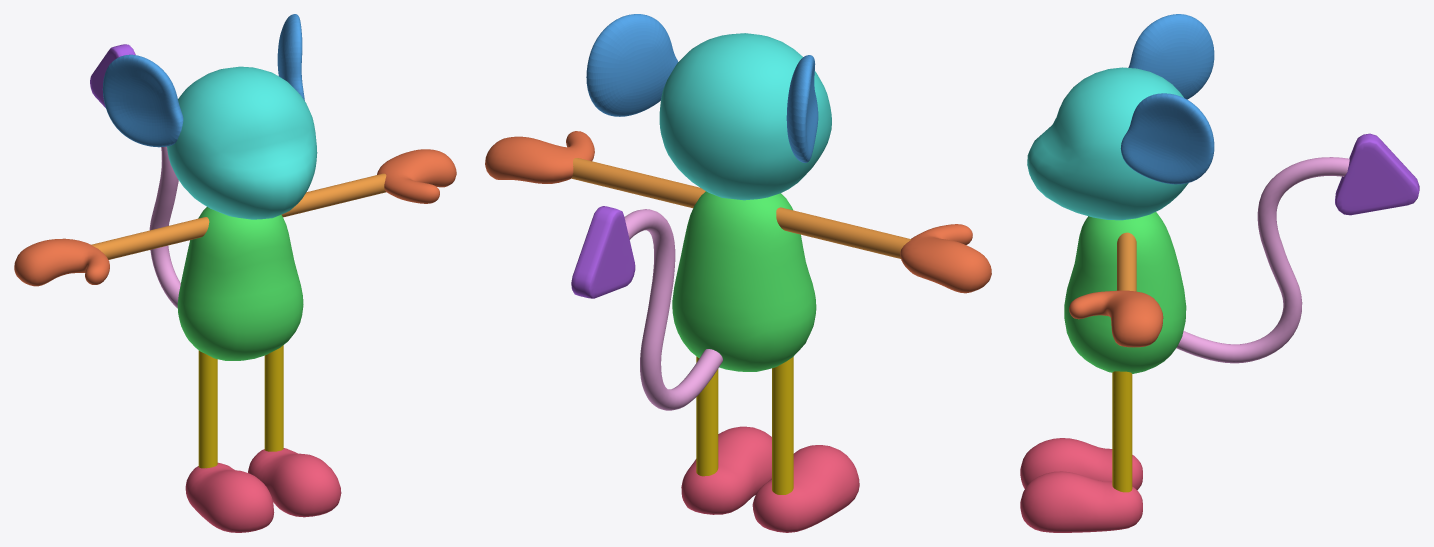
Rendered from mouse_original.fbx.
3 renders of one model, left to right at view 1: azimuth 30°, elevation 25°; view 2: azimuth 150°, elevation 25°; view 3: azimuth 270°, elevation 25°, orthographic. The views are drawn at different scales.
Visible parts, largest first — view 1: head.001, body, ear_R, foot_R, foot_L, hand_R, tail, hand_L, leg_R, arm_R, leg_L, arm_L (+1 smaller); view 2: body, head.001, tail, ear_L, foot_R, foot_L, hand_R, hand_L, arm_L, arm_R, leg_R, ear_R (+1 smaller); view 3: head.001, body, tail, ear_L, foot_L, ear_R, hand_L, foot_R, leg_L, arm_L.
Boxes of the visible parts, bbox=[...] form: head.001: bbox=[167, 66, 317, 219]; body: bbox=[177, 207, 303, 360]; ear_R: bbox=[102, 54, 183, 147]; foot_R: bbox=[185, 462, 274, 532]; foot_L: bbox=[248, 448, 341, 517]; hand_R: bbox=[14, 238, 109, 286]; tail: bbox=[90, 44, 180, 308]; hand_L: bbox=[377, 149, 456, 203]; leg_R: bbox=[198, 350, 217, 468]; arm_R: bbox=[91, 217, 209, 259]; leg_L: bbox=[264, 345, 283, 451]; arm_L: bbox=[281, 173, 386, 217]; body: bbox=[672, 191, 816, 371]; head.001: bbox=[659, 33, 831, 200]; tail: bbox=[571, 206, 722, 410]; ear_L: bbox=[586, 14, 677, 116]; foot_R: bbox=[752, 445, 859, 532]; foot_L: bbox=[681, 426, 771, 514]; hand_R: bbox=[900, 224, 991, 293]; hand_L: bbox=[485, 131, 594, 183]; arm_L: bbox=[571, 158, 705, 208]; arm_R: bbox=[776, 207, 910, 258]; leg_R: bbox=[772, 357, 793, 494]; ear_R: bbox=[786, 55, 818, 162]; head.001: bbox=[1027, 67, 1188, 220]; body: bbox=[1064, 212, 1186, 373]; tail: bbox=[1176, 133, 1419, 363]; ear_L: bbox=[1120, 93, 1214, 184]; foot_L: bbox=[1020, 471, 1142, 532]; ear_R: bbox=[1128, 14, 1214, 99]; hand_L: bbox=[1069, 290, 1163, 347]; foot_R: bbox=[1020, 438, 1142, 490]; leg_L: bbox=[1112, 371, 1132, 492]; arm_L: bbox=[1117, 232, 1136, 291].
Bounding box in the file's own units: 484 × 465 × 373.
